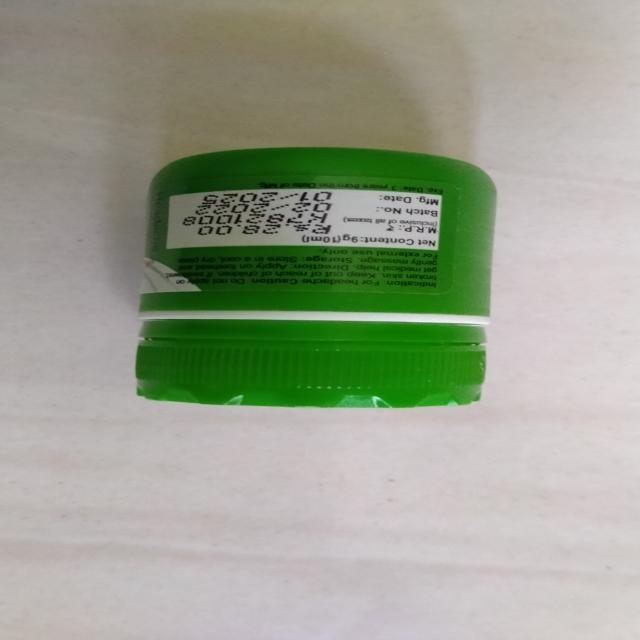eucalyptus oil: (121, 136, 512, 429)
